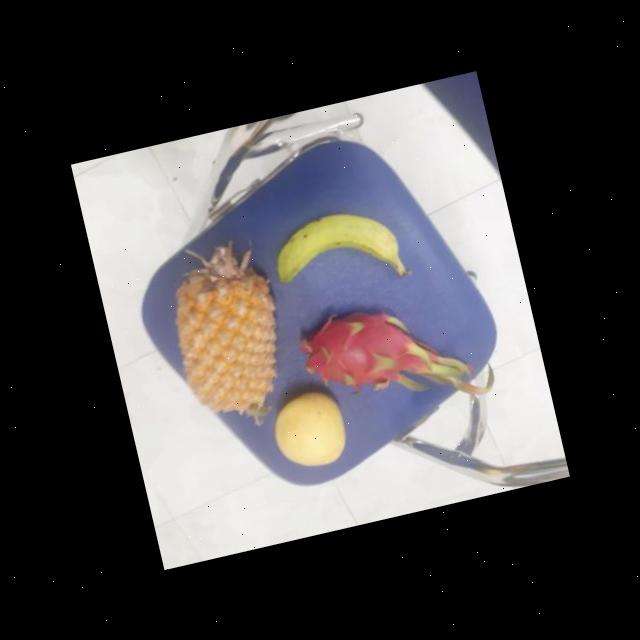banana: (270, 200, 414, 302)
pear: (264, 384, 354, 472)
pineapple: (159, 247, 301, 424)
pitaya: (296, 294, 432, 404)
